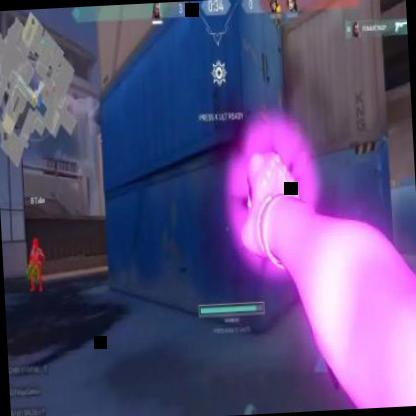enemy: (25, 236, 45, 291)
enemy_head: (31, 238, 39, 249)
